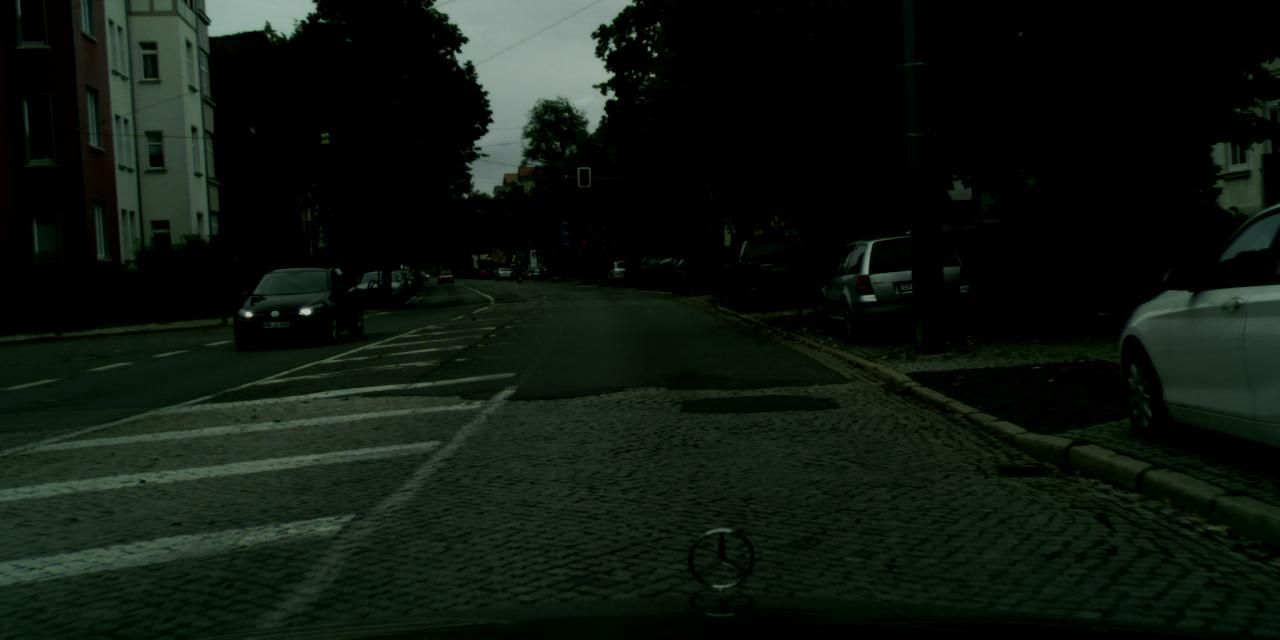ped: (516, 264, 521, 279)
